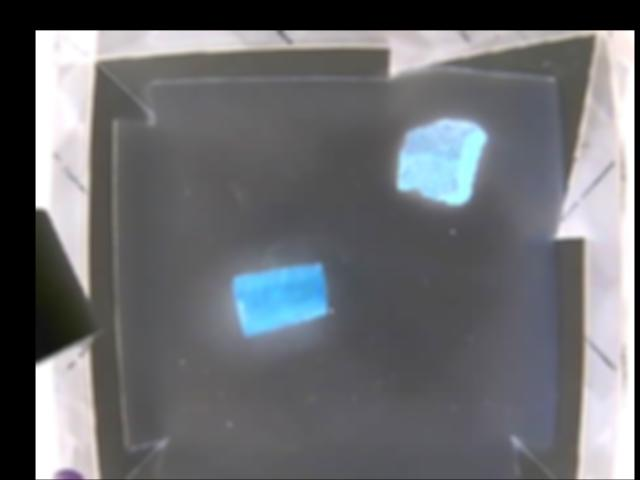Brisk: (397, 117, 487, 205)
Carrot: (233, 262, 328, 335)
